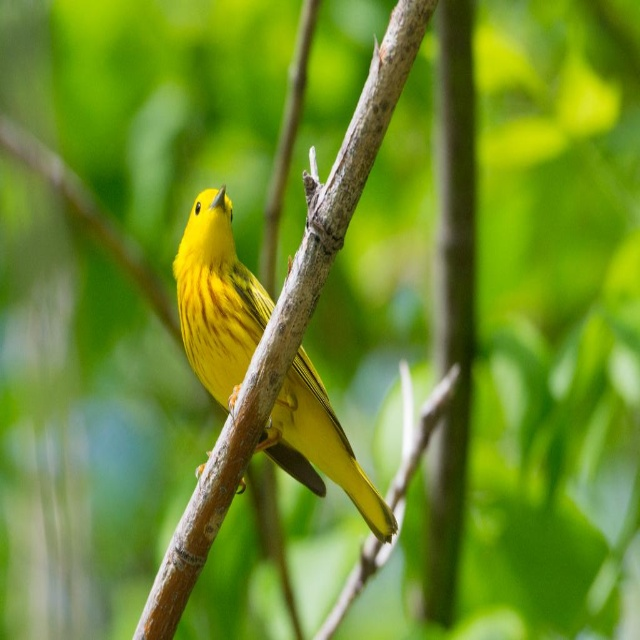Canary: (172, 183, 400, 547)
